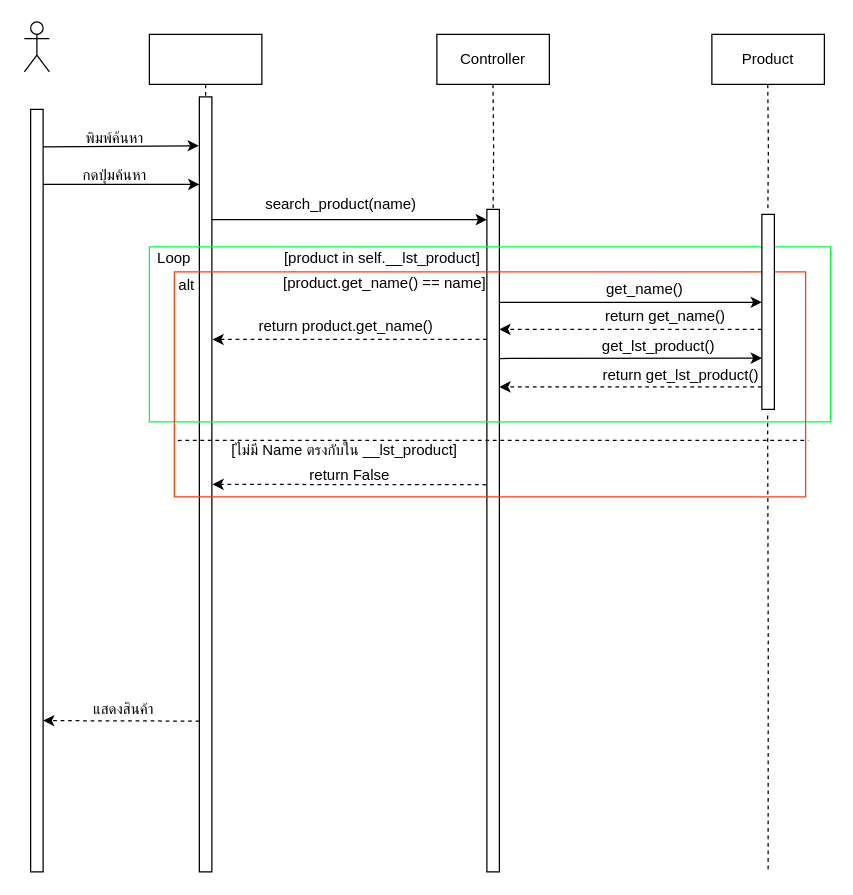
The diagram is 853 pixels wide and 895 high, and some of its shapes have lost their labels. Each missing label, with the box of its shape:
UI: (148, 33, 262, 84)
User: (23, 21, 49, 72)
